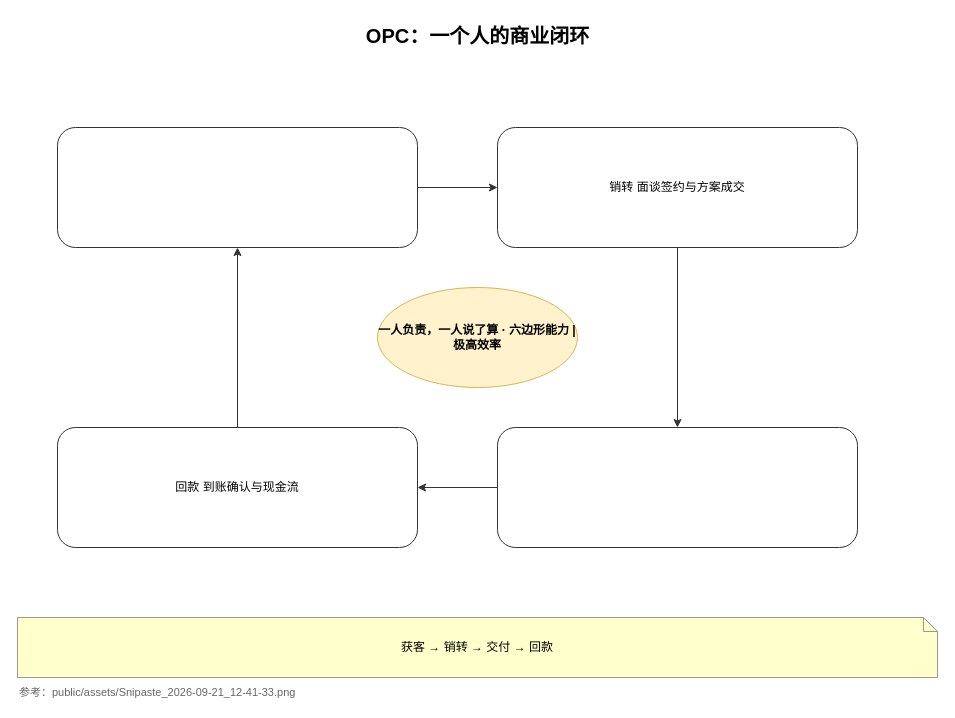
The diagram is 955 pixels wide and 718 high, and some of its shapes have lost their labels. Here are the shapes that lost their labels. From the top down, the centre of each, then its label:
At (237,187): "获客 线上触达与线索获取".
At (677,487): "交付 方案落地与项目执行".
